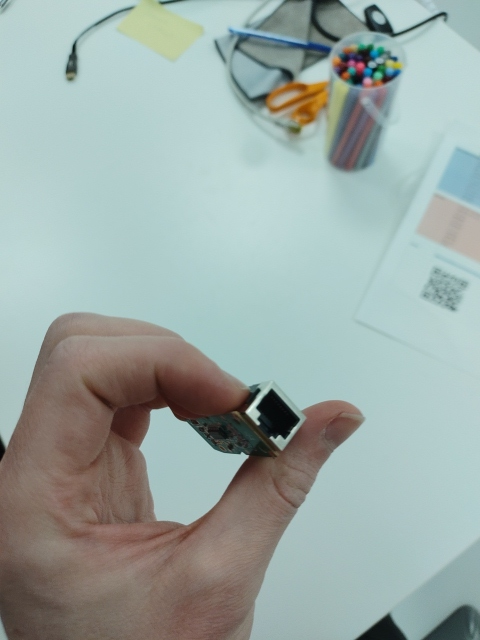Ethernet: (254, 389, 300, 442)
